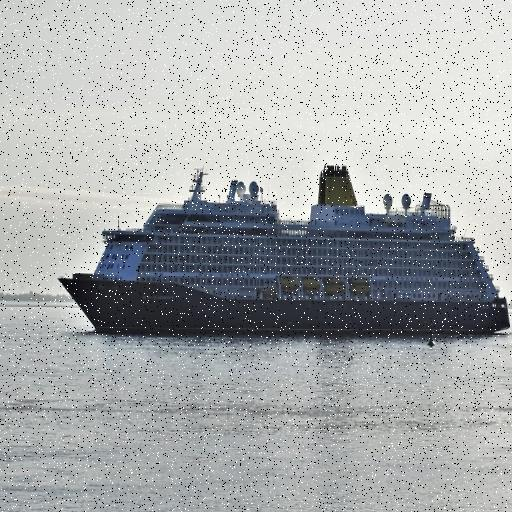cruises: (53, 154, 512, 348)
